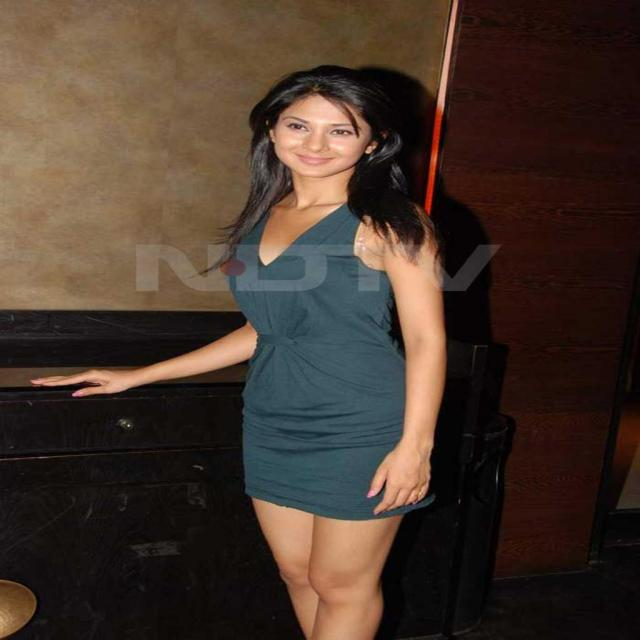nomask: (268, 92, 362, 175)
